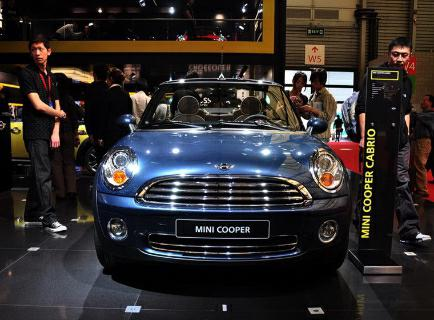MINI: (80, 77, 361, 265)
